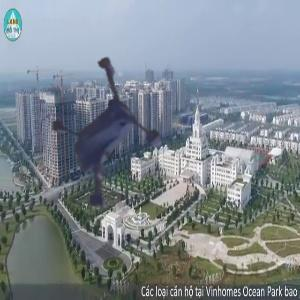drone: (29, 74, 195, 240)
